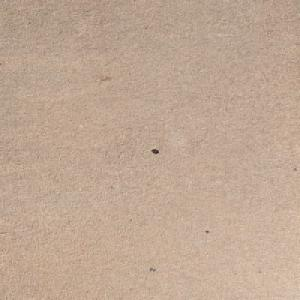Nut: (150, 148, 157, 152)
